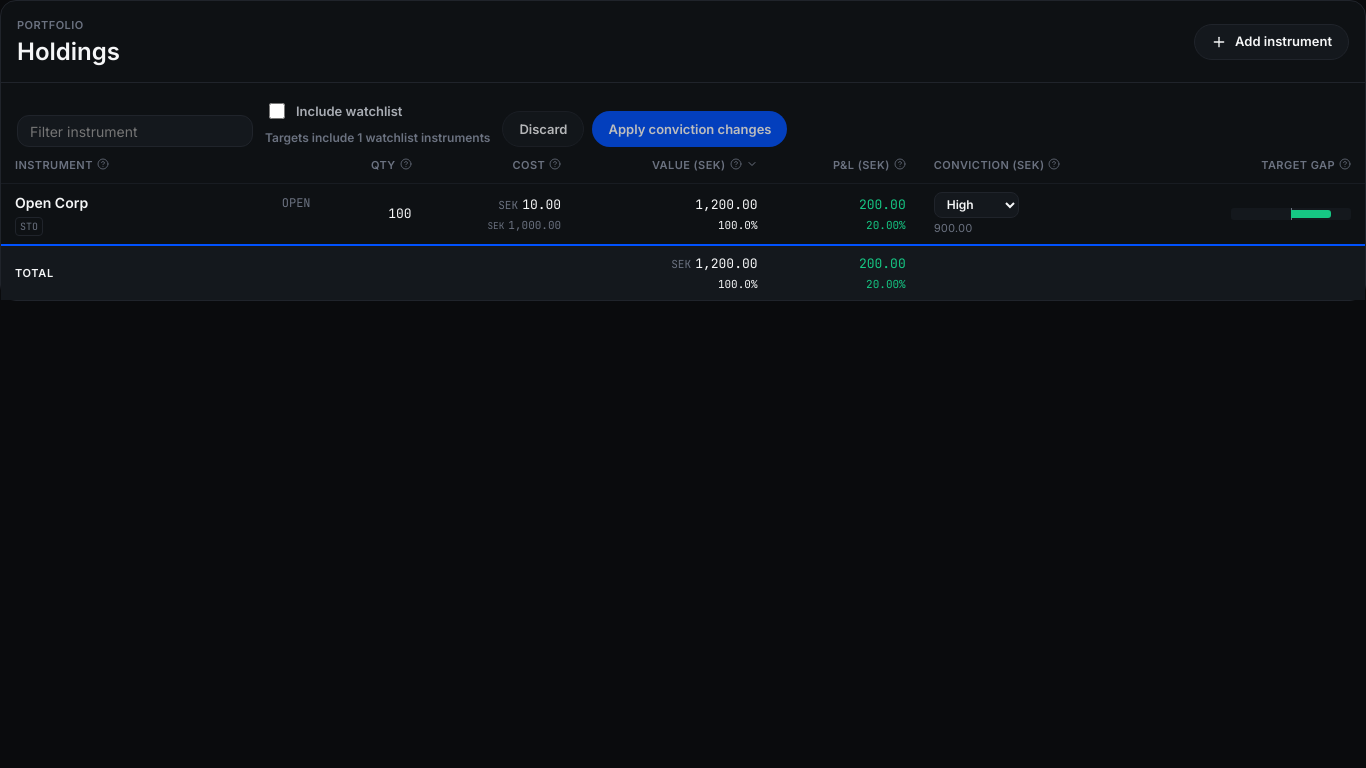
Test: HoldingsPage › opens the add instrument dialog from the page button
Click the button "Add instrument": click(1272, 42) x1=1194 y1=24 x2=1349 y2=60
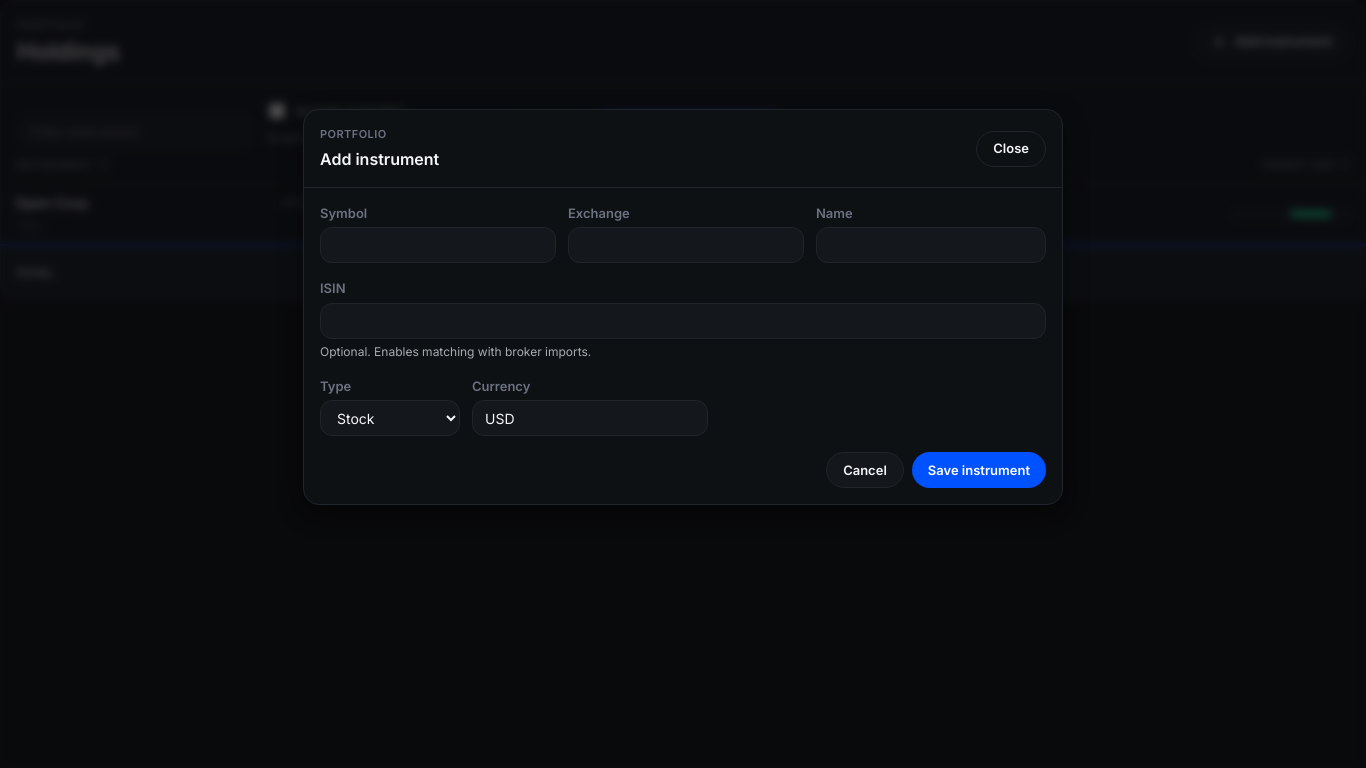
Result: the dialog "Add instrument" is shown at x1=303 y1=109 x2=1063 y2=505
